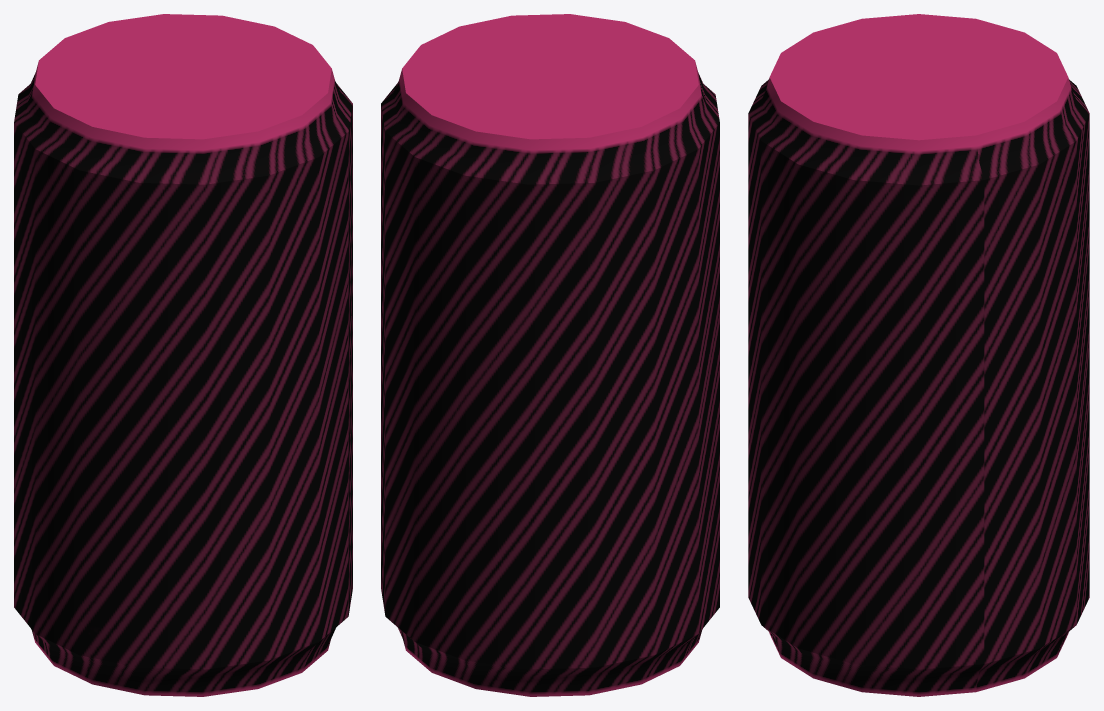
File: ExplodeyBarrell.FBX
3 renders of one model, left to right at view 1: azimuth 30°, elevation 25°; view 2: azimuth 150°, elevation 25°; view 3: azimuth 270°, elevation 25°, orthographic.
Visible parts, largest first — view 1: Cylinder001; view 2: Cylinder001; view 3: Cylinder001.
Boxes of the visible parts, left/top/right/bottom form: Cylinder001: left=14, top=14, right=352, bottom=696; Cylinder001: left=381, top=14, right=719, bottom=696; Cylinder001: left=748, top=14, right=1089, bottom=696.
Bounding box in the file's own units: 12.78 × 23 × 12.78.
1 material, 1 textured.
